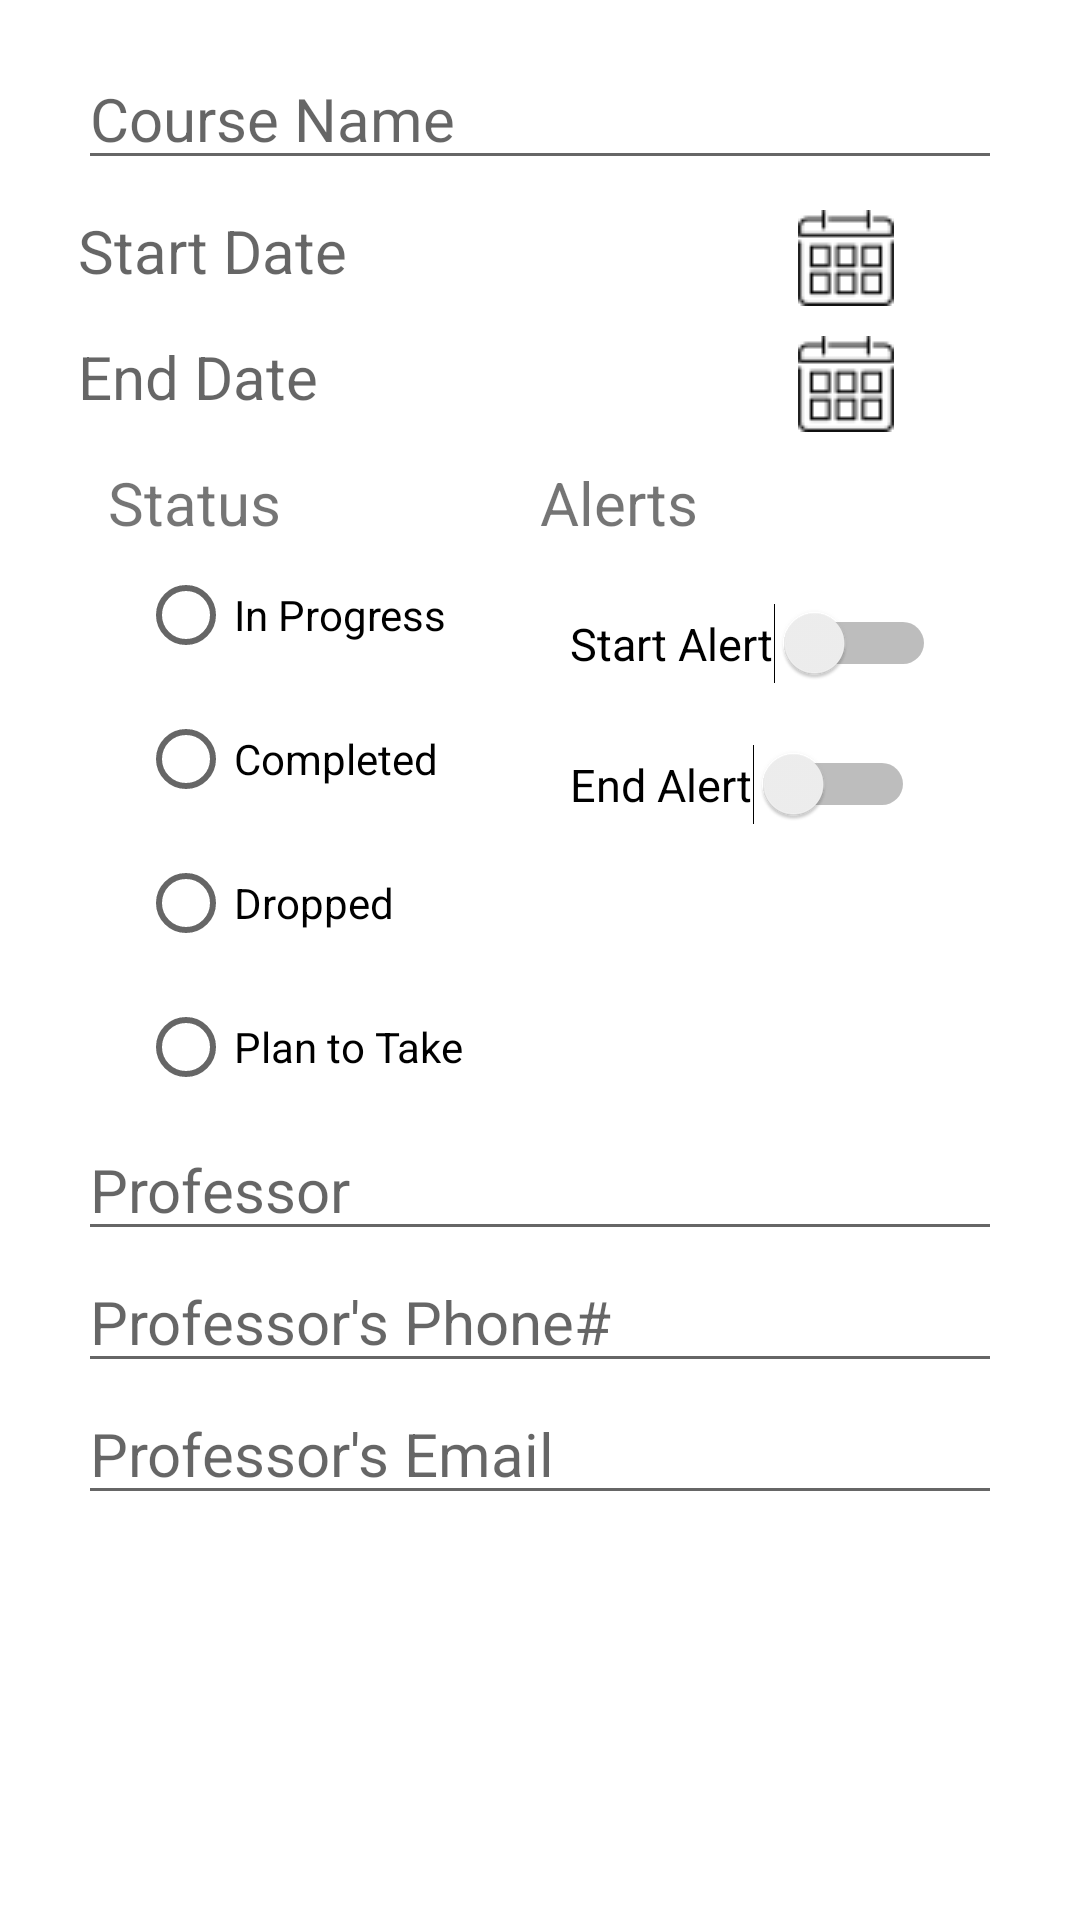

Locate icon controls on the screen. Image size 1080px×1920px, boxes as (x1, y1, x2, y2).
calendar: (798, 210, 894, 306), (798, 336, 894, 432)
